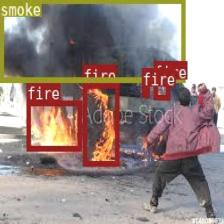fire: (83, 82, 118, 165), (26, 100, 80, 150), (152, 79, 168, 98), (141, 86, 149, 96)
smoke: (0, 0, 184, 81)
